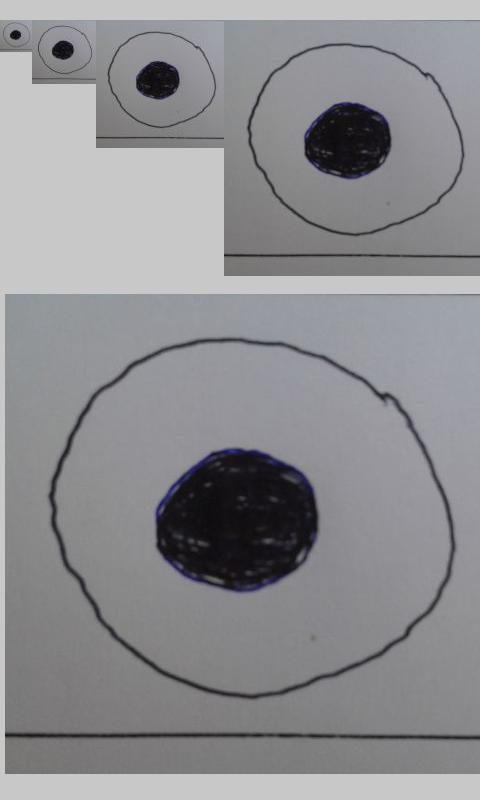radio_button: (43, 331, 459, 706), (245, 40, 466, 238), (106, 30, 218, 129), (37, 24, 93, 75), (2, 22, 31, 48)
